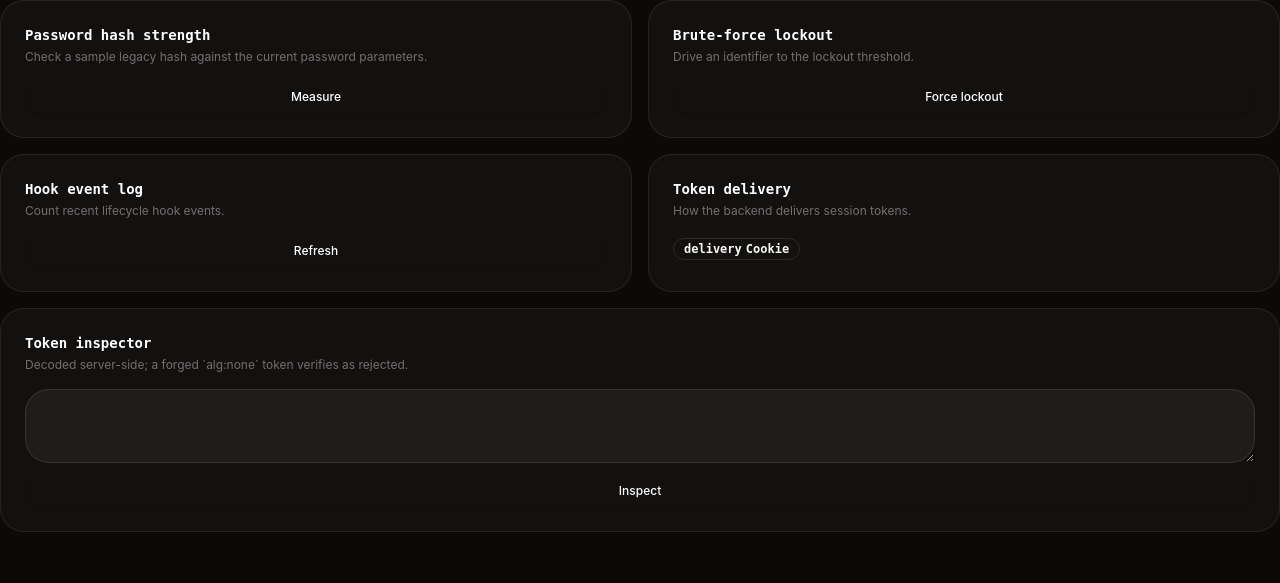
Test: DiagnosticsMatrix — hash strength › posts a PHC body and flags a stale hash for rehashing
Click the button "Measure": {"x": 316, "y": 97} [25,81,607,113]
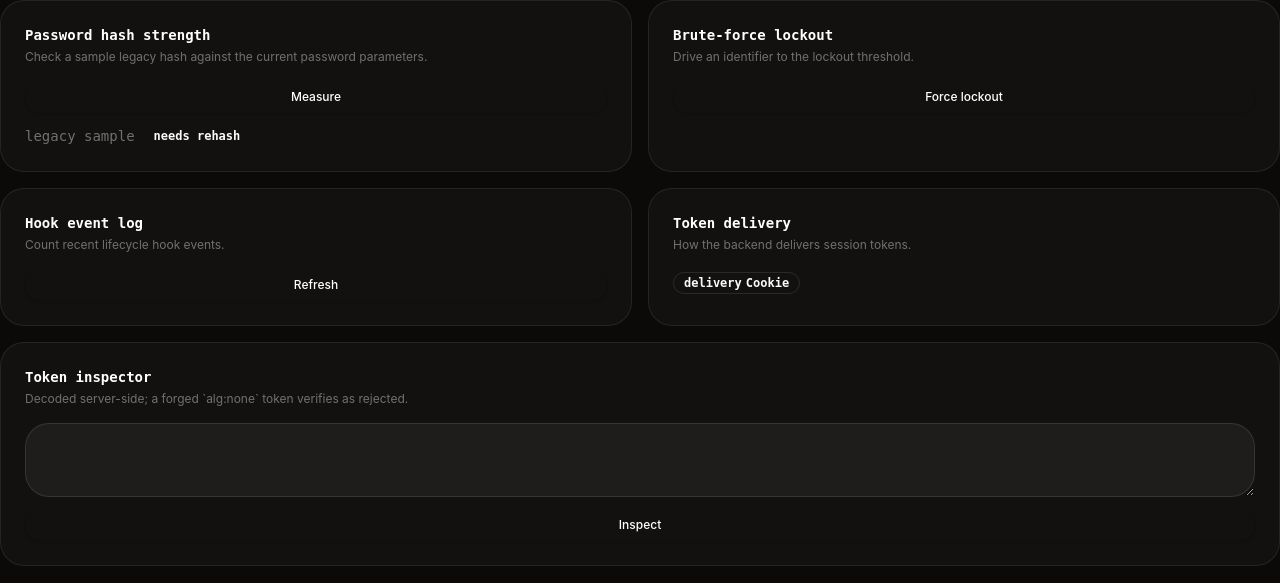
Now the text "needs rehash" is shown, box [154,129,240,143]
Now the text "legacy sample" is shown, box [25,126,135,146]
